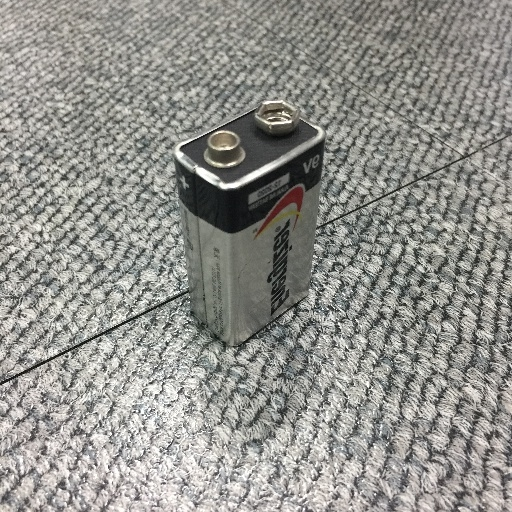Battery_3: (158, 85, 343, 353)
